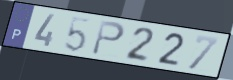2: (124, 26, 155, 63), (158, 31, 187, 67)
4: (33, 13, 56, 48)
5: (62, 15, 92, 54)
7: (189, 34, 221, 71)
P: (90, 19, 127, 57)
